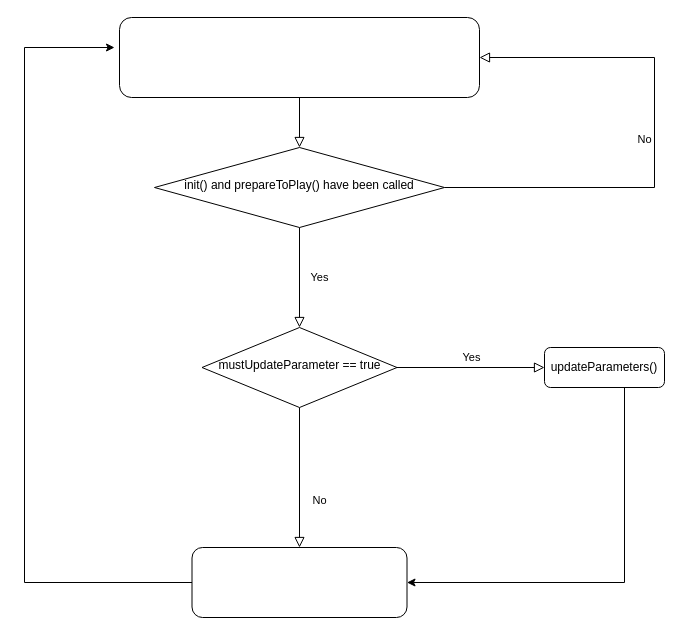
The diagram is 682 pixels wide and 635 high, and some of its shapes have lost their labels. The shapes that lost their labels are listed below. From the top down, each one's centre as x and y in pixels, then its label:
At [299,57]: "processBlock(..)".
At [299,582]: "process and output audio".
